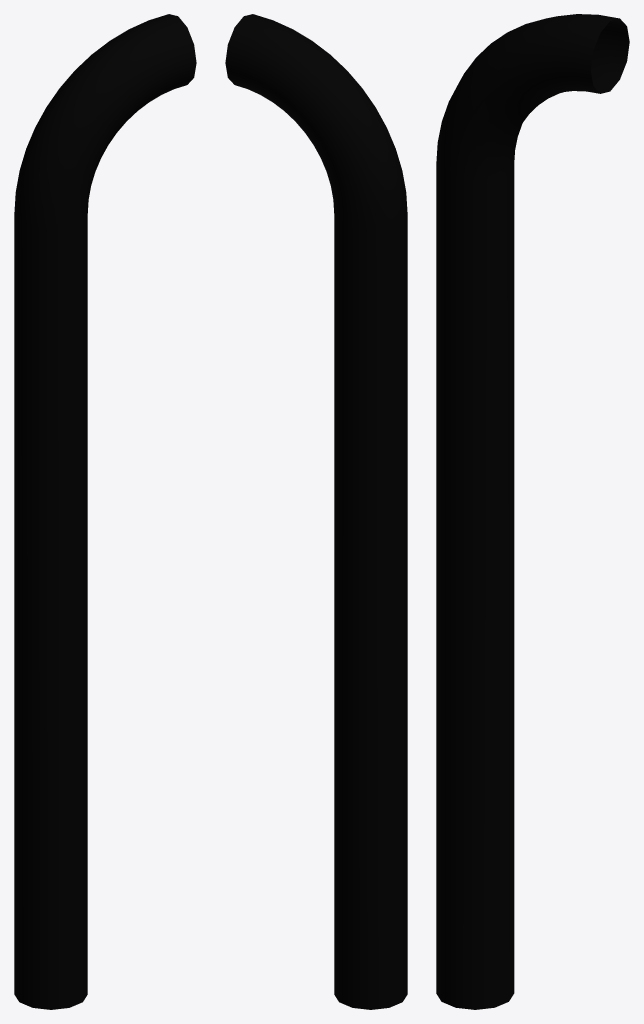
The model's file is Rohr.fbx.
The picture shows the model from 3 angles, left to right: view 1: azimuth 30°, elevation 25°; view 2: azimuth 150°, elevation 25°; view 3: azimuth 330°, elevation 25°; orthographic projection. The views are drawn at different scales.
Parts seen in each view (by area): view 1: Rohr; view 2: Rohr; view 3: Rohr.
Part boxes in pixels (x1,y1,x2,y2): Rohr: (14, 14, 196, 1009); Rohr: (225, 14, 407, 1009); Rohr: (436, 14, 629, 1009).
Bounding box in the file's own units: 42.6 × 243 × 17.04.
